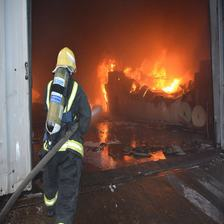fire: (93, 53, 186, 107)
